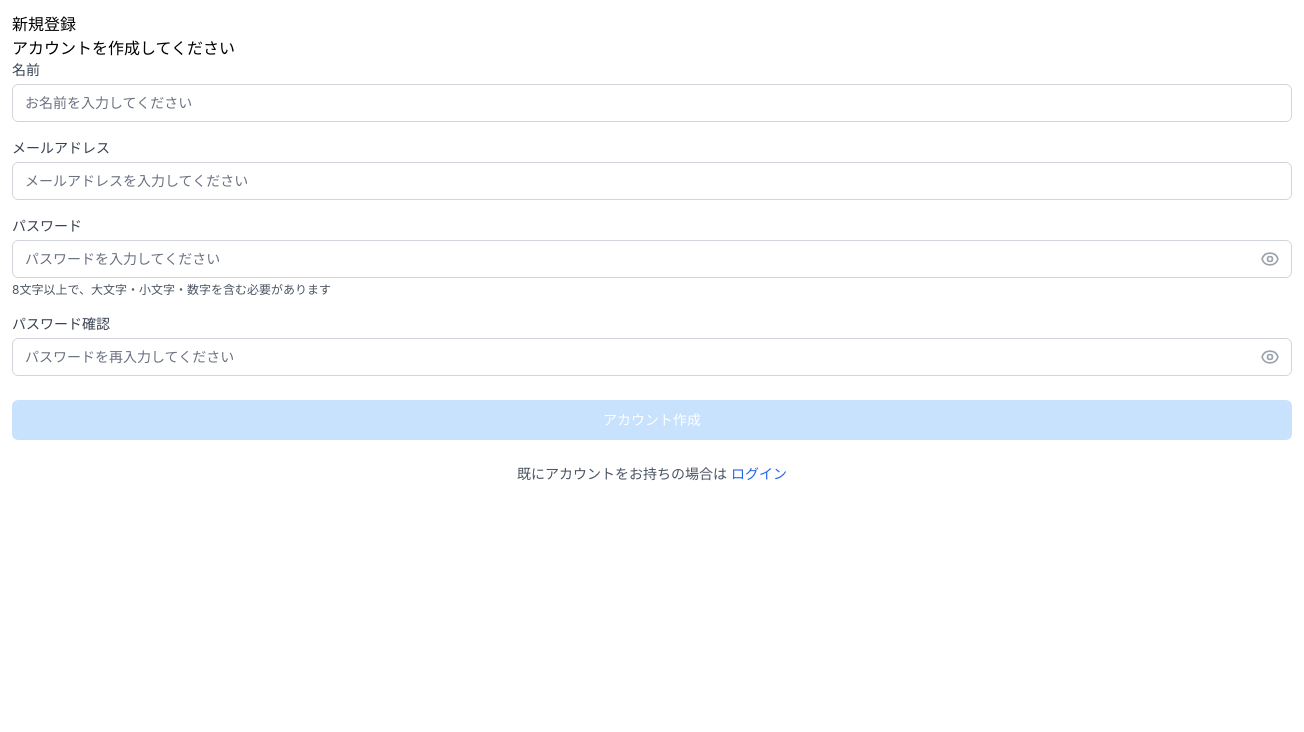
Test: SignupPage › フォームバリデーションが正しく動作する
Expected: the button "アカウント作成" is disabled, [12,400,1292,440]
// 無効なメールアドレスを入力
In the field labelled "メールアドレス": (652, 181) [12,162,1292,200], type "invalid-email"
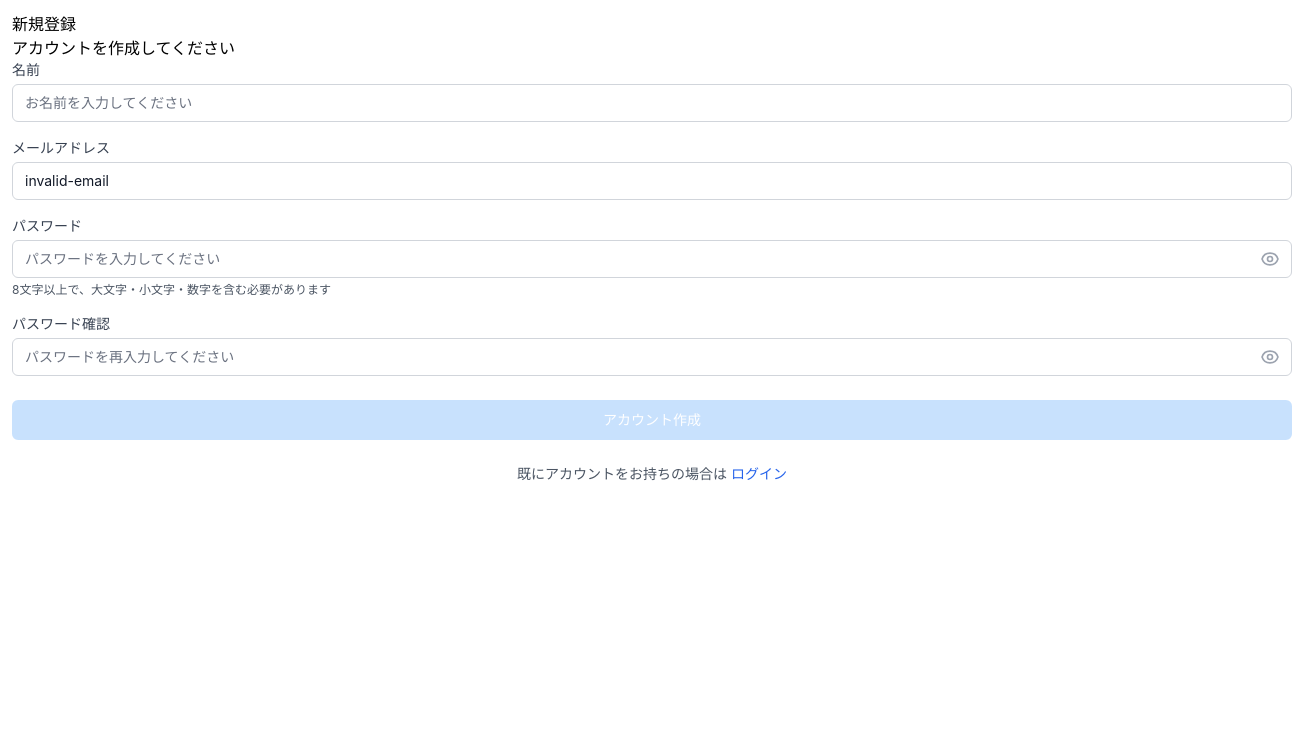
Leave the field labelled "メールアドレス", box [12,162,1292,200]
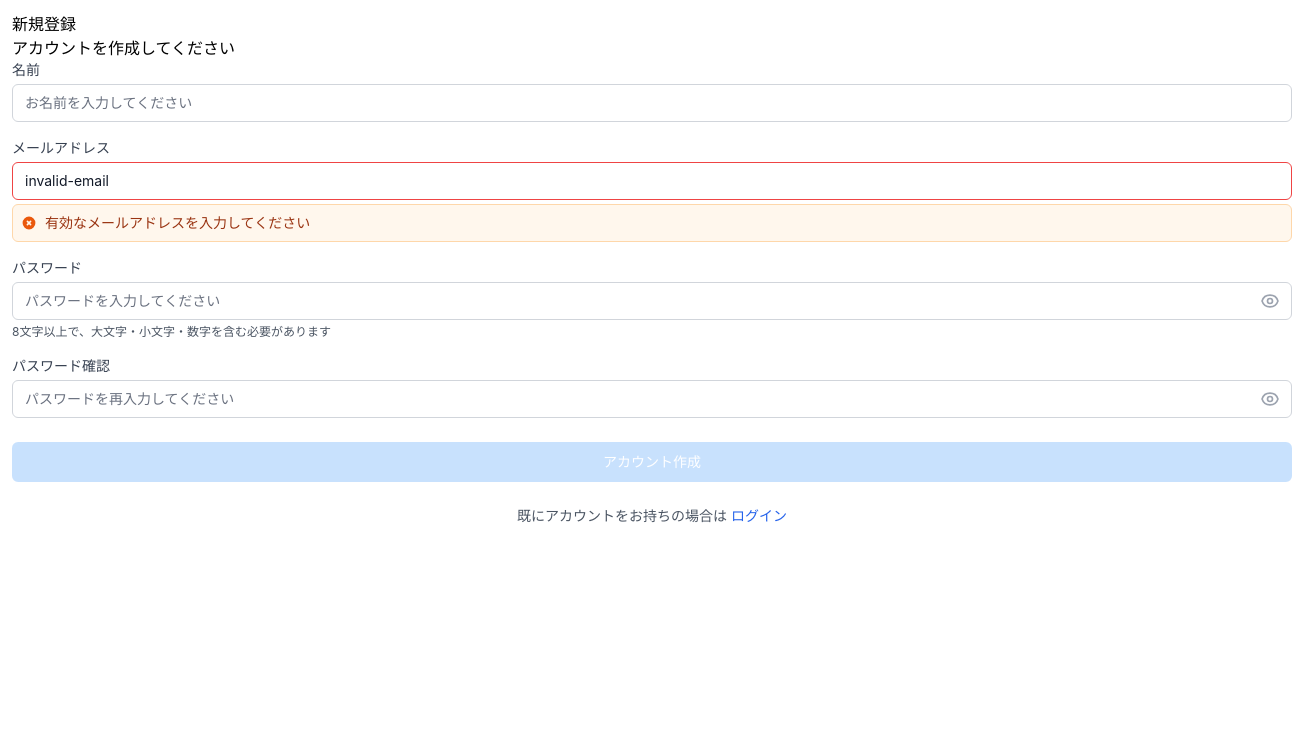
Result: the text "有効なメールアドレスを入力してください" is shown at [44,213,310,231]
// パスワードが一致しない場合
In the password field labelled "パスワード": (652, 301) [12,282,1292,320], type "Password123"
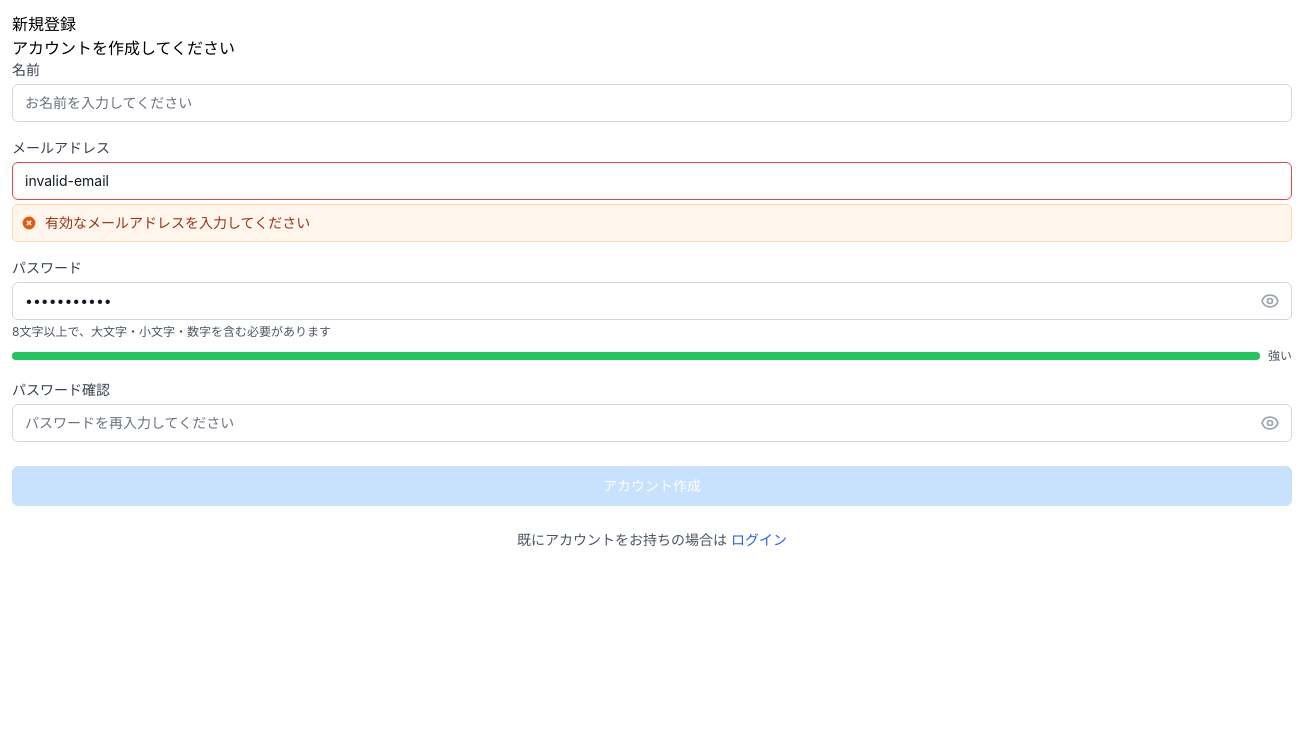
In the password field labelled "パスワード確認": (652, 423) [12,404,1292,442], type "DifferentPassword"
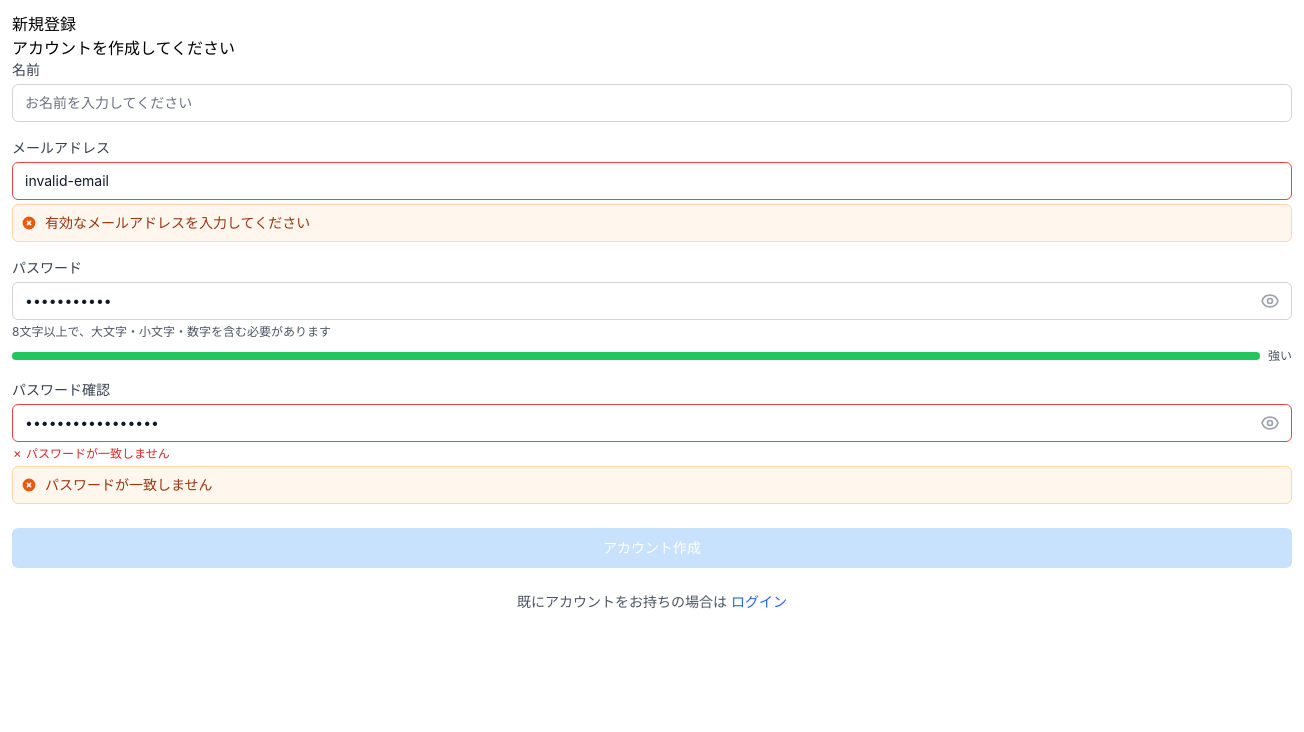
Result: the text "パスワードが一致しません" is shown at [44,475,213,493]
